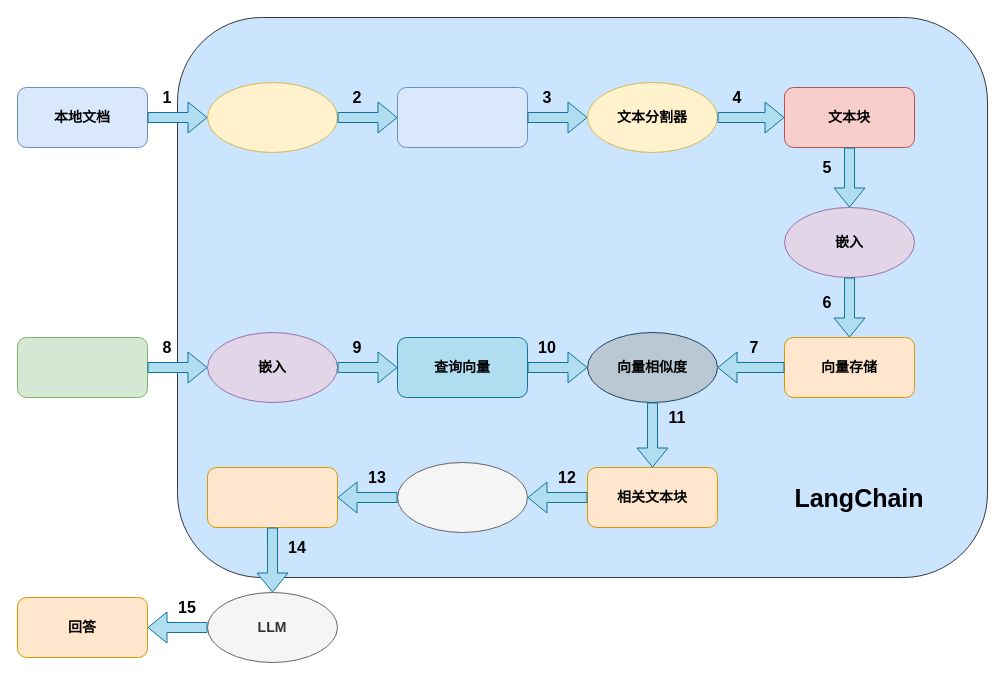
Image size: 1005x680. Some labels were removed from this diagram. The centre of each missing label's shape, as x and y in pixels:
提示: the point at 272,497
提示模板: the point at 462,497
文本: the point at 462,117
查询: the point at 82,367
非结构化数据加载器: the point at 272,117
